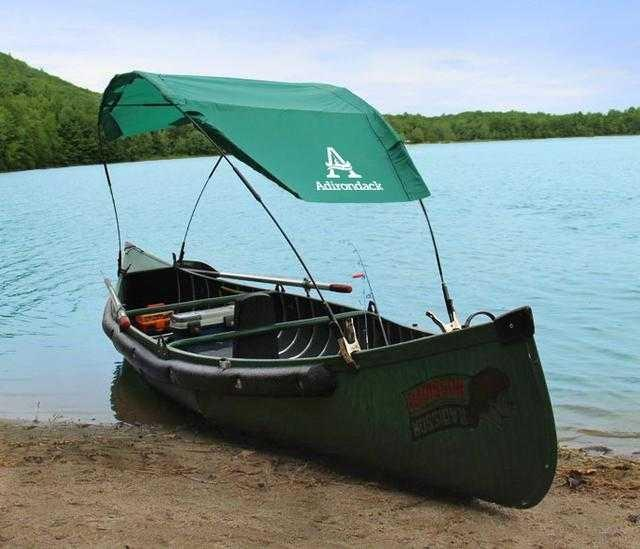kayak: (99, 71, 561, 508)
